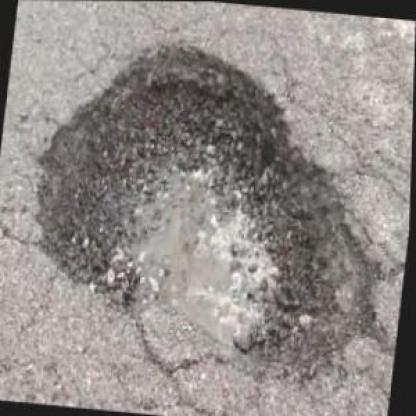pothole: (11, 22, 413, 394)
